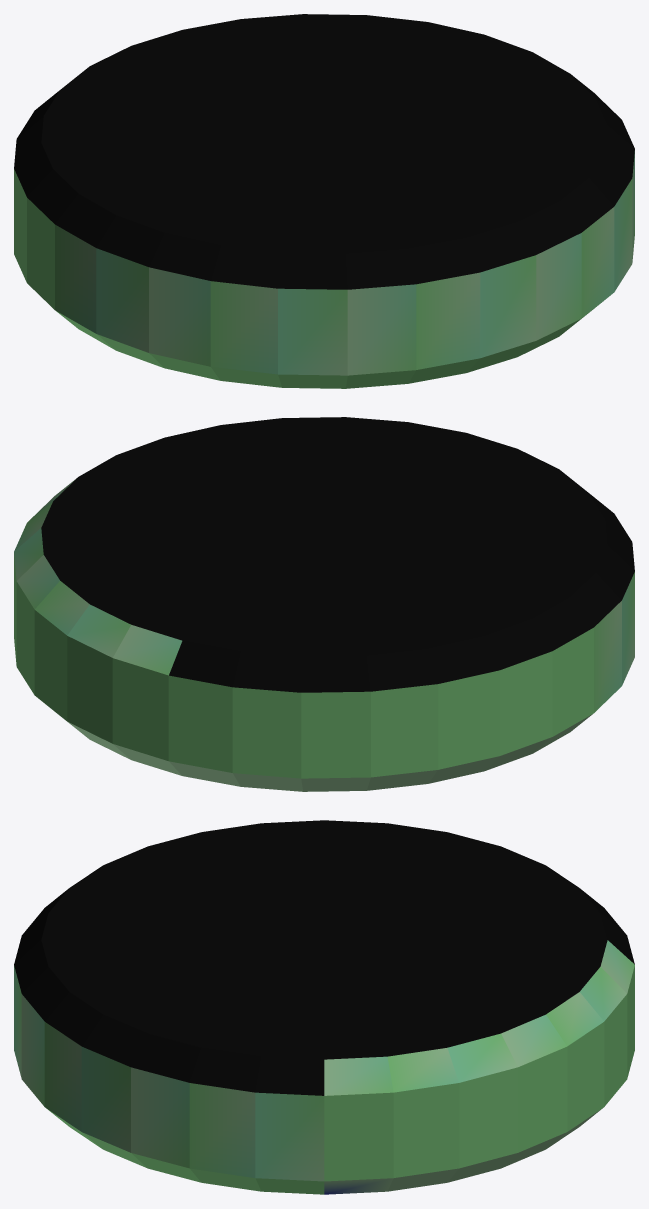
Rendered from plinth.glb.
3 renders of one model, top to bottom at view 1: azimuth 30°, elevation 25°; view 2: azimuth 150°, elevation 25°; view 3: azimuth 270°, elevation 25°, orthographic.
Parts seen in each view (by area): view 1: plinth; view 2: plinth; view 3: plinth.
Part boxes in pixels (x1,y1,x2,y2): plinth: [14, 14, 634, 388]; plinth: [14, 417, 634, 791]; plinth: [14, 820, 634, 1194].
Size of the model in its own units: 0.5 by 0.12 by 0.5.
